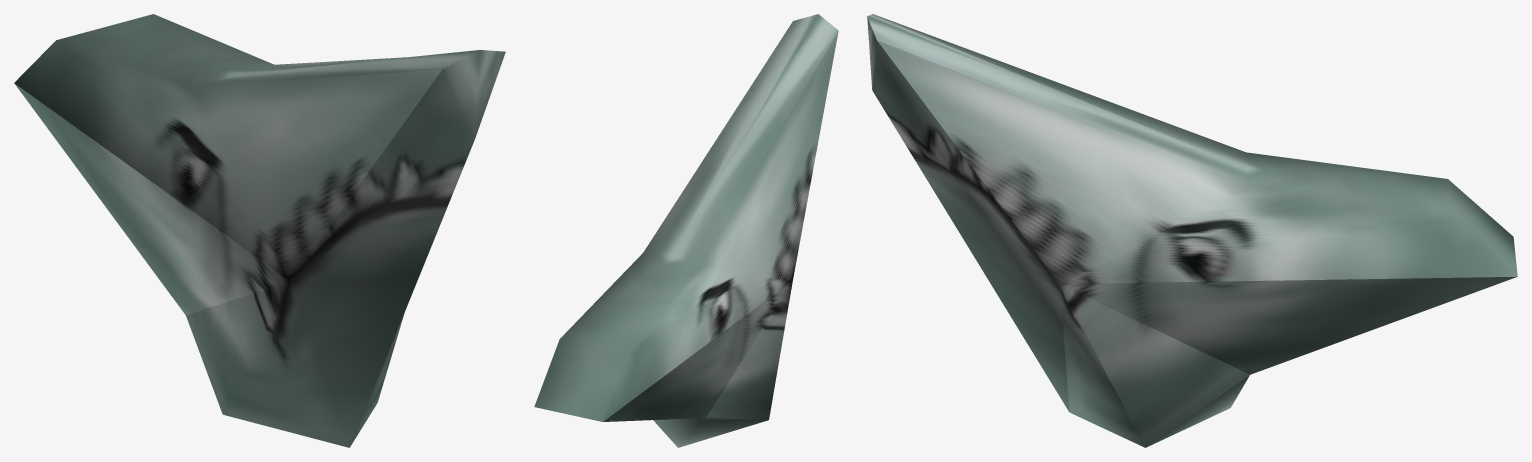
3 renders of one model, left to right at view 1: azimuth 30°, elevation 25°; view 2: azimuth 150°, elevation 25°; view 3: azimuth 270°, elevation 25°, orthographic. The views are drawn at different scales.
Visible parts, largest first — view 1: loanshark; view 2: loanshark; view 3: loanshark.
Boxes of the visible parts, x1,y1,x2,y2 form: loanshark: (14, 14, 505, 447); loanshark: (534, 14, 838, 447); loanshark: (867, 14, 1517, 447).
Size of the model in its own units: 0.5903 by 1.75 by 2.55.
1 material, 1 textured.
